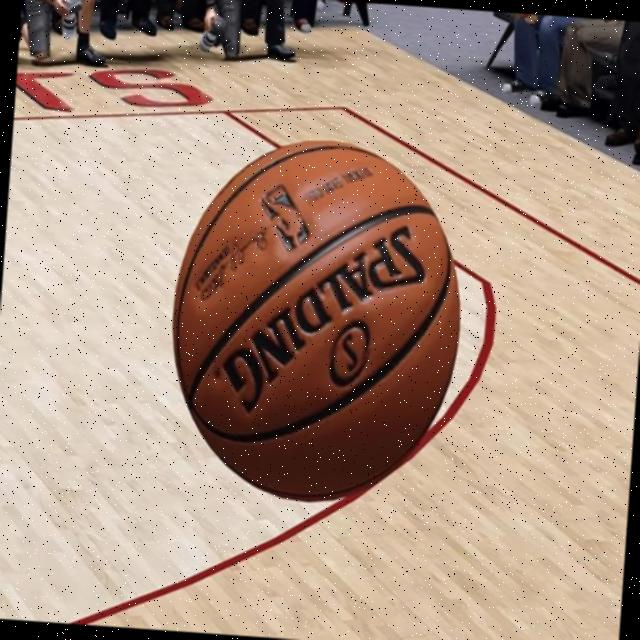ball: (160, 130, 473, 510)
